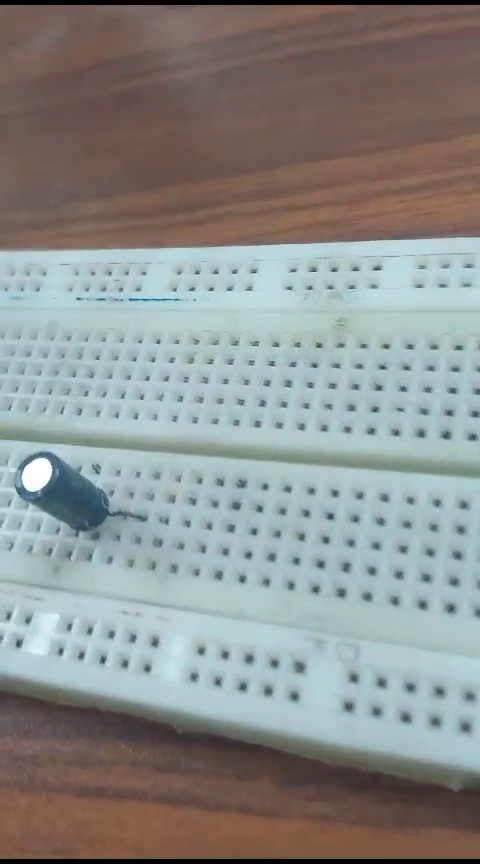capacitor: (13, 439, 140, 536)
